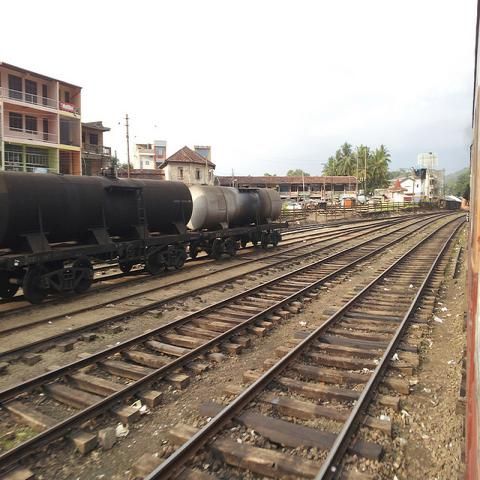car: (286, 202, 302, 209), (307, 200, 318, 209)
